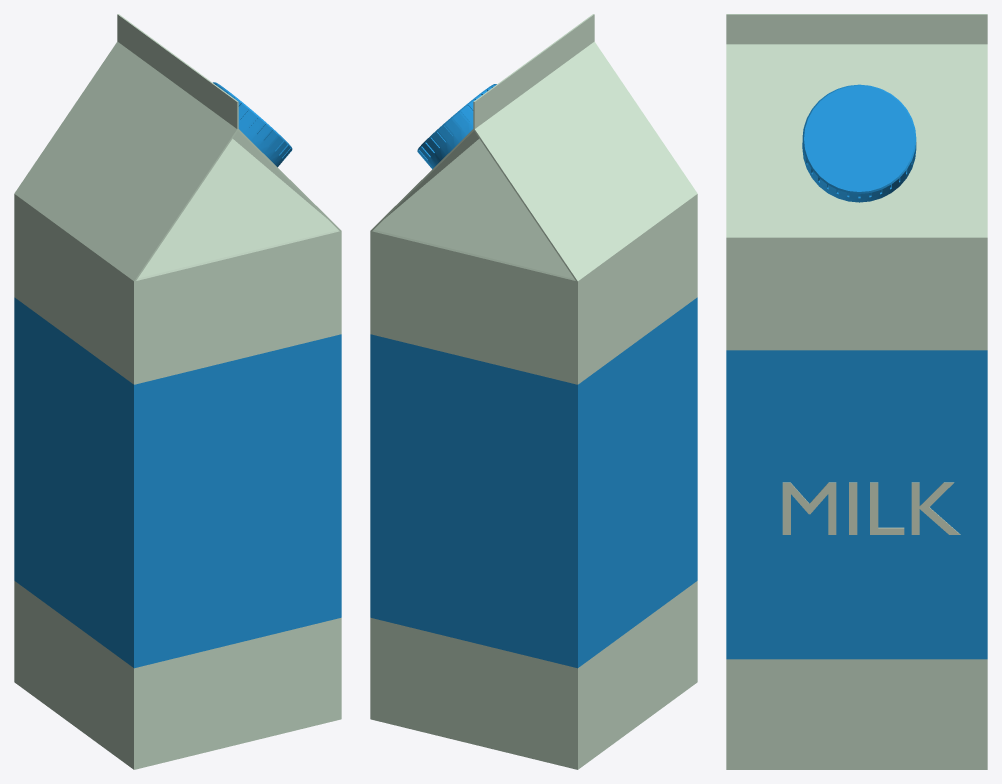
Rendered from madstore_milk.fbx.
The picture shows the model from 3 angles, left to right: view 1: azimuth 30°, elevation 25°; view 2: azimuth 150°, elevation 25°; view 3: azimuth 270°, elevation 25°; orthographic projection. The views are drawn at different scales.
Visible parts, largest first — view 1: Circle.002; view 2: Circle.002; view 3: Circle.002, Text.
Boxes of the visible parts, x1,y1,x2,y2 form: Circle.002: (14, 14, 341, 769); Circle.002: (370, 14, 697, 769); Circle.002: (726, 14, 987, 769); Text: (782, 482, 960, 534).
Size of the model in its own units: 312 by 914 by 309.
